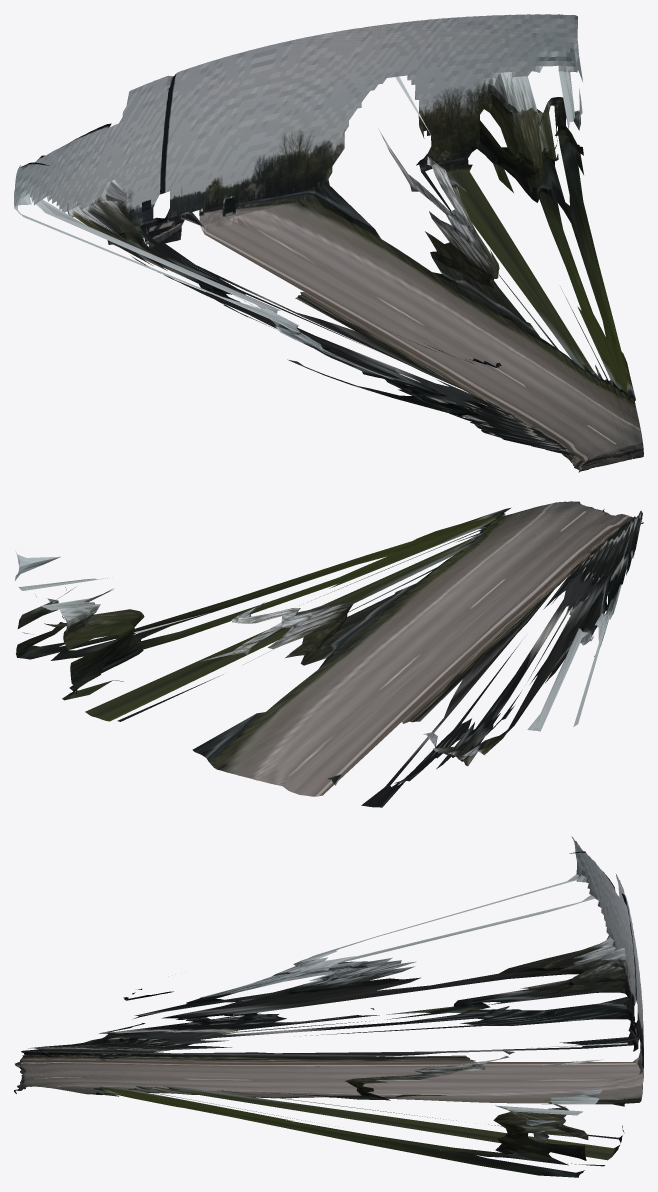
The picture shows the model from 3 angles, top to bottom: view 1: azimuth 30°, elevation 25°; view 2: azimuth 150°, elevation 25°; view 3: azimuth 270°, elevation 25°; orthographic projection. The views are drawn at different scales.
Parts seen in each view (by area): view 1: defaultobject; view 2: defaultobject; view 3: defaultobject.
Boxes of the visible parts, x1=… form: defaultobject: x1=14, y1=14, x2=643, y2=472; defaultobject: x1=15, y1=501, x2=643, y2=807; defaultobject: x1=14, y1=836, x2=643, y2=1177.
Size of the model in its own units: 40.83 by 12.21 by 44.58.
Materials: 1 (1 with a texture image).
